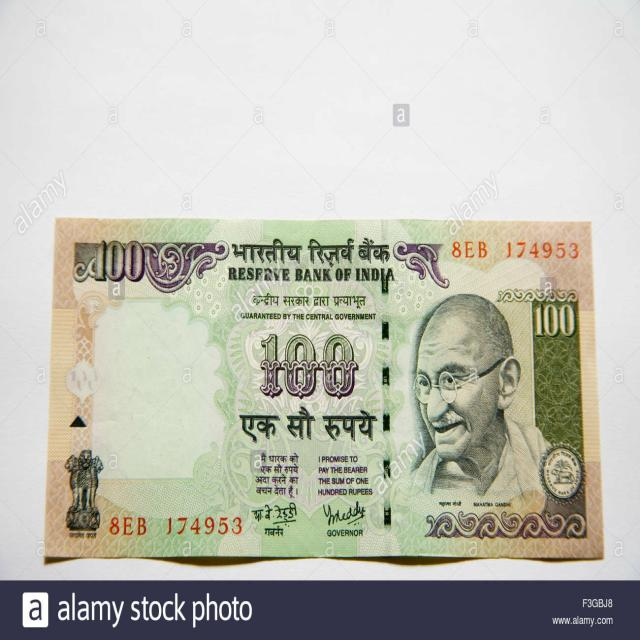100IndianRupees: (46, 218, 605, 552)
